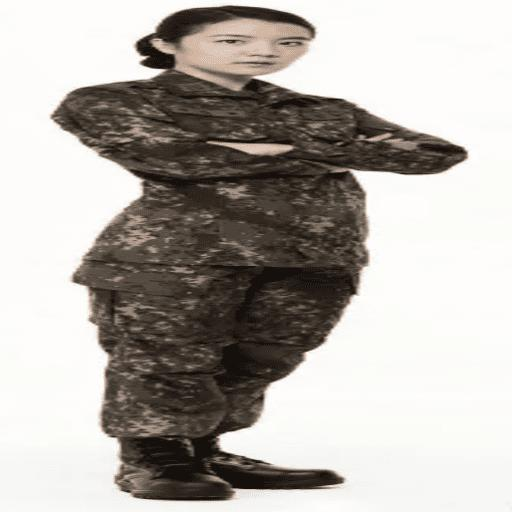korea army: (49, 4, 468, 501)
